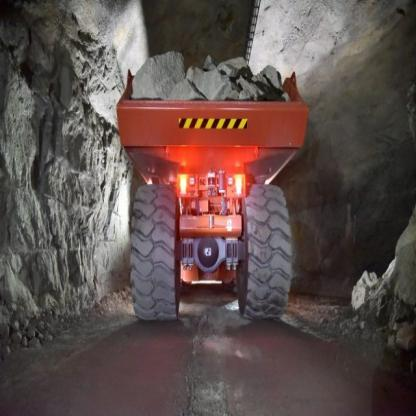dump_truck: (101, 26, 312, 334)
